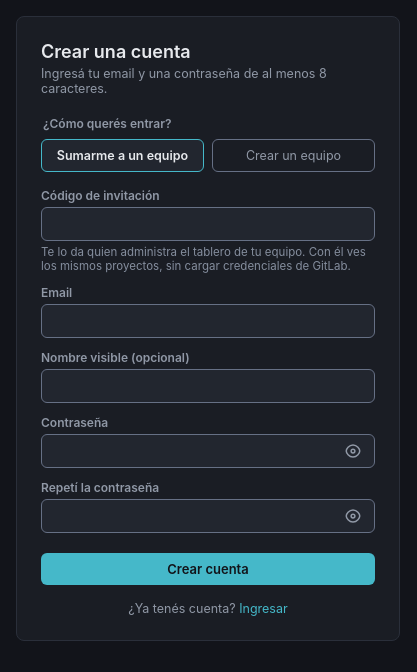
Test: RegisterForm › cambia al nombre del equipo al elegir crear uno
The image size is (417, 672).
Click the button "Crear un equipo" at (294, 156), box [212,139,375,172]
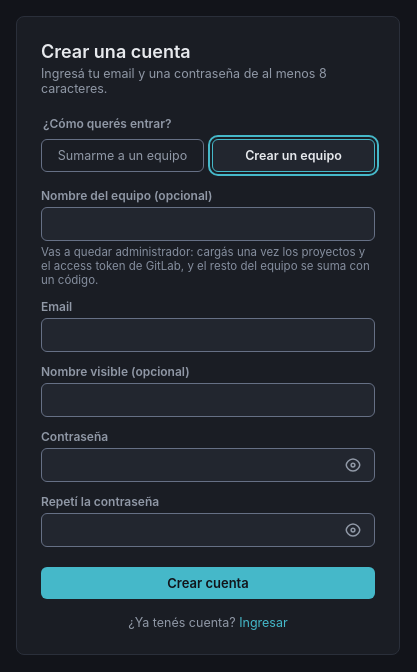
Expected: the field labelled "Nombre del equipo (opcional)" is shown, [41,207,375,241]
Result: the label labelled "Código de invitación" is gone
